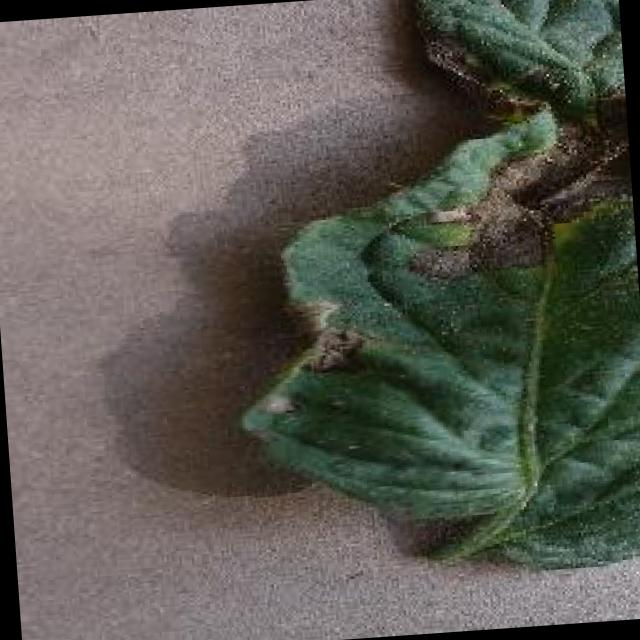Tomato_Early_Blight: (213, 0, 640, 567)
